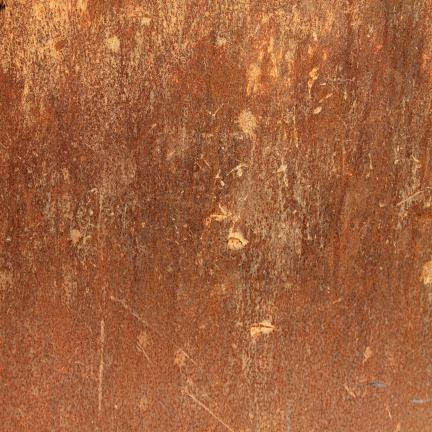karat: (1, 0, 432, 430), (1, 1, 430, 431)
